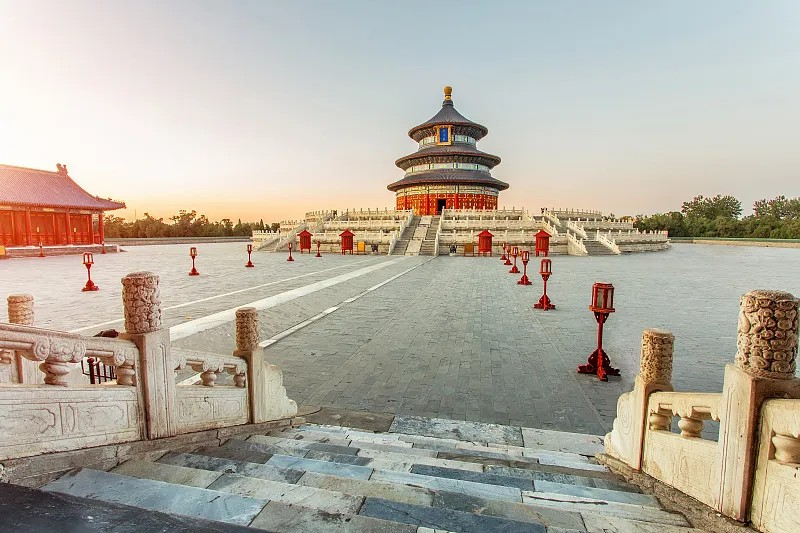Heaven: (387, 85, 511, 212)
